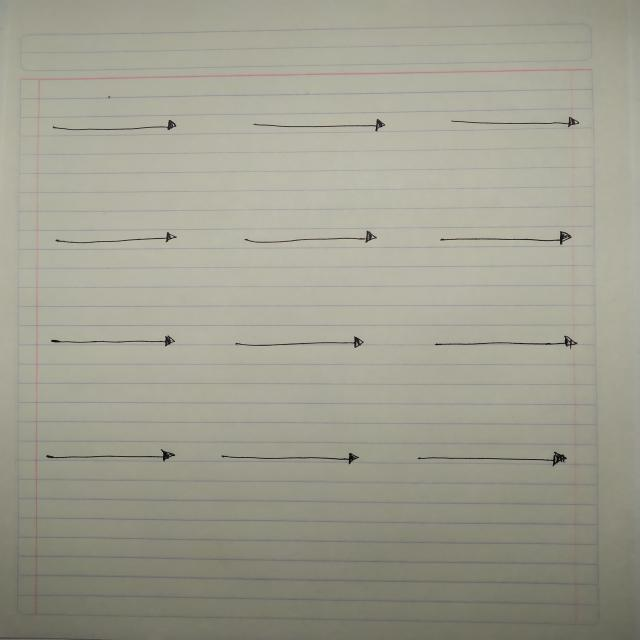arrow_line_right: (420, 222, 588, 260), (210, 327, 392, 357), (41, 224, 199, 258), (422, 329, 596, 359), (406, 446, 580, 476), (439, 108, 608, 138), (234, 111, 406, 139), (208, 441, 372, 470), (228, 224, 384, 254), (40, 326, 188, 356), (39, 444, 190, 472), (43, 115, 185, 138)
